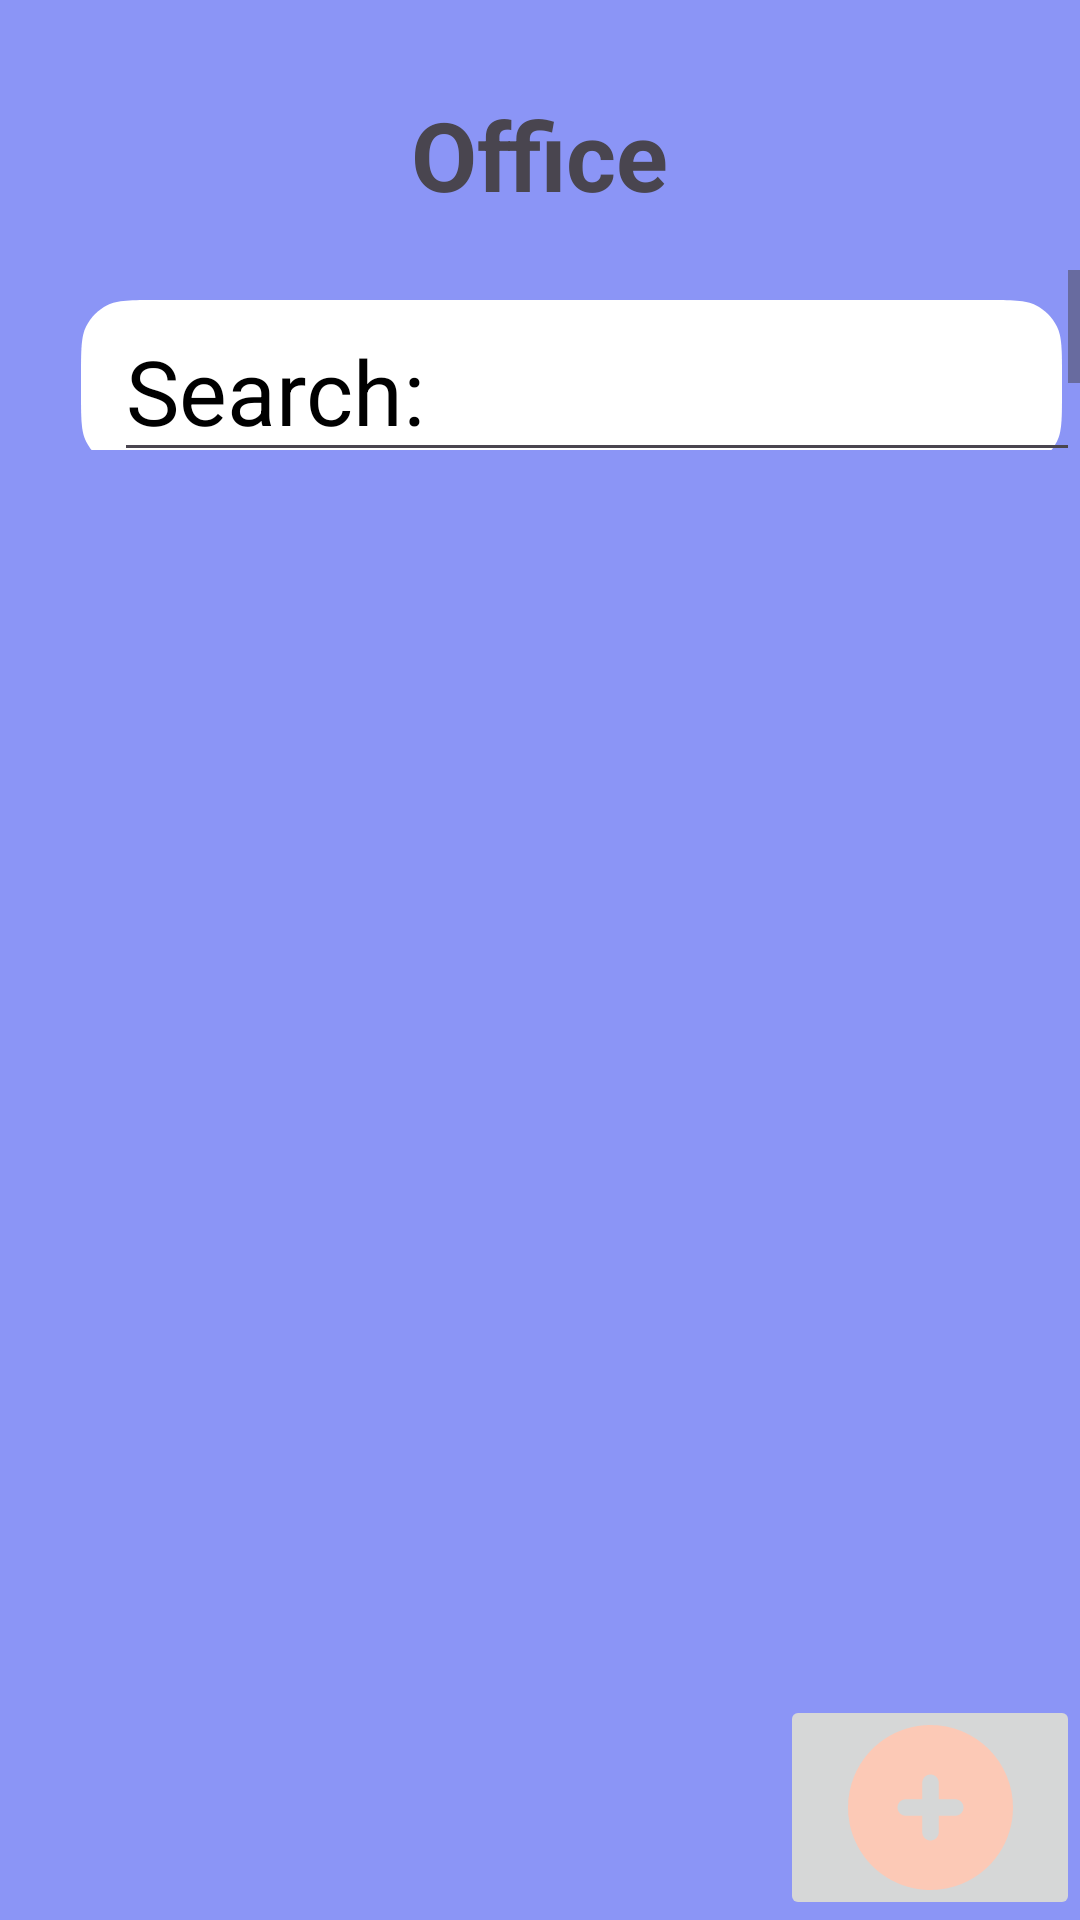

Where icons sit on this 1080 x 1920 app screen, as (x1, y1, x2, y2):
Add Item: (792, 1713, 1068, 1902)
